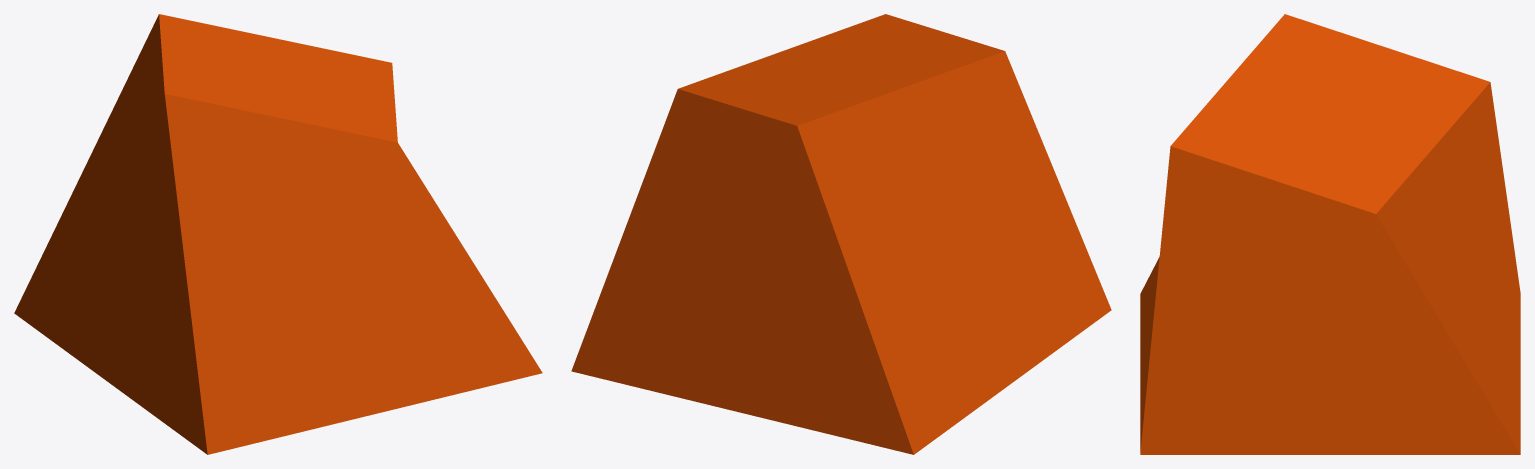
Rendered from tree-autumn-leaves-013.glb.
The picture shows the model from 3 angles, left to right: view 1: azimuth 30°, elevation 25°; view 2: azimuth 150°, elevation 25°; view 3: azimuth 270°, elevation 25°; orthographic projection. The views are drawn at different scales.
Parts seen in each view (by area): view 1: Cube.039_340; view 2: Cube.039_340; view 3: Cube.039_340.
Boxes of the visible parts, x1,y1,x2,y2 form: Cube.039_340: (14, 14, 542, 454); Cube.039_340: (571, 14, 1111, 454); Cube.039_340: (1140, 14, 1520, 454).
Bounding box in the file's own units: 0.6335 × 0.5416 × 0.6335.
